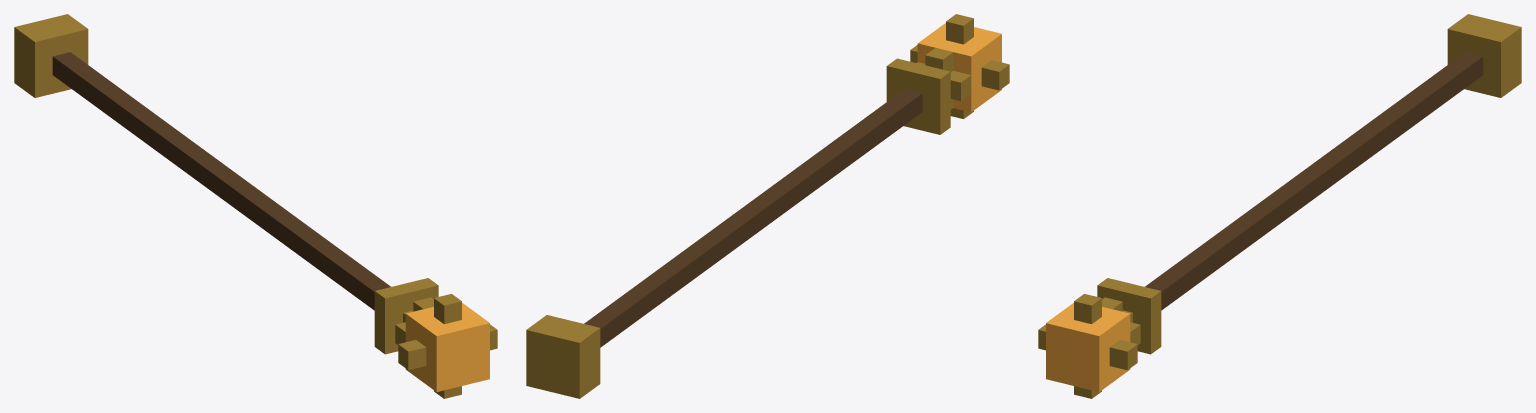
Rendered from vox_staff.glb.
3 renders of one model, left to right at view 1: azimuth 30°, elevation 25°; view 2: azimuth 150°, elevation 25°; view 3: azimuth 330°, elevation 25°, orthographic.
Visible parts, largest first — view 1: vox_staff; view 2: vox_staff; view 3: vox_staff.
Part boxes in pixels (x1=…): vox_staff: x1=14, y1=14, x2=497, y2=398; vox_staff: x1=526, y1=14, x2=1009, y2=398; vox_staff: x1=1038, y1=14, x2=1521, y2=398.
Bounding box in the file's own units: 0.1 × 0.1 × 0.82.
